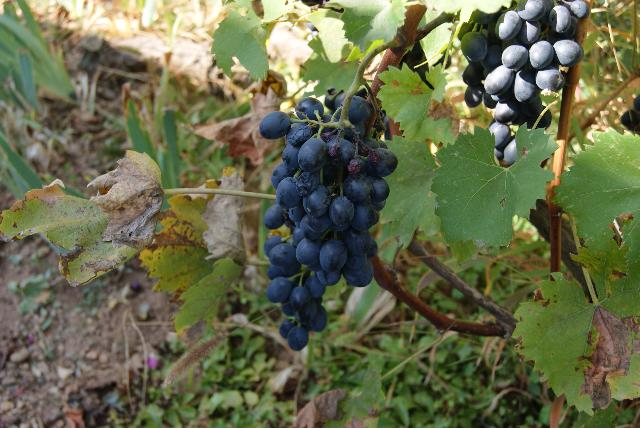grapes: (259, 96, 398, 350), (461, 0, 589, 165)
